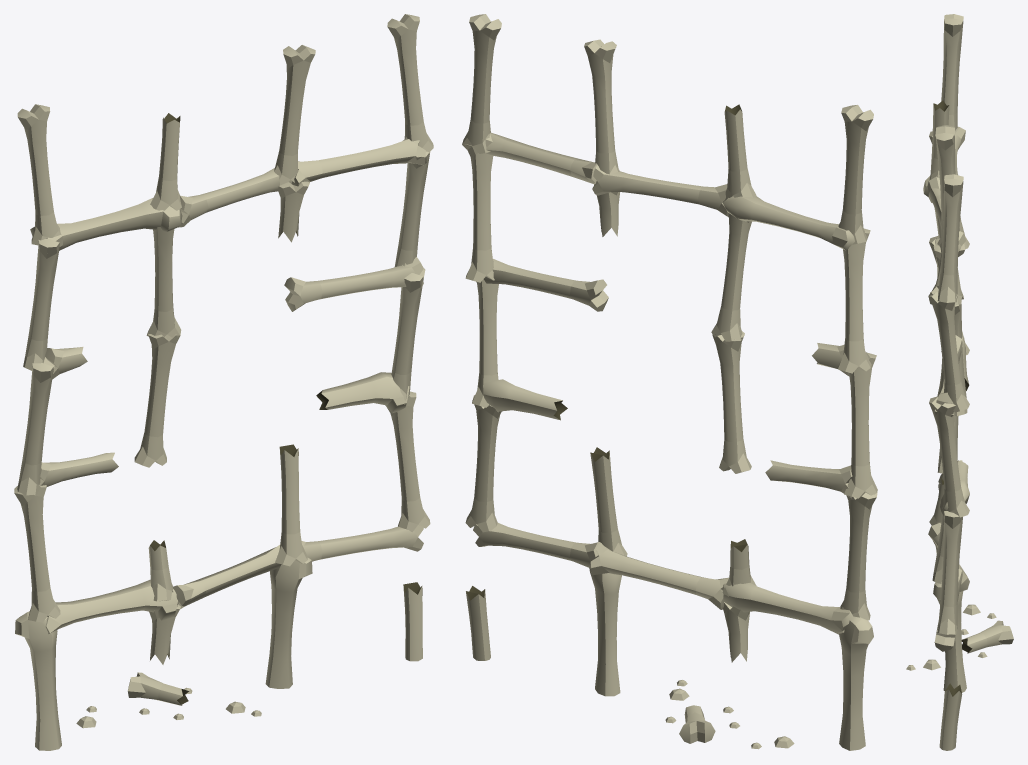
File: Huesos_S.fbx
The picture shows the model from 3 angles, left to right: view 1: azimuth 30°, elevation 25°; view 2: azimuth 150°, elevation 25°; view 3: azimuth 270°, elevation 25°; orthographic projection. The views are drawn at different scales.
Parts seen in each view (by area): view 1: Huesos_S; view 2: Huesos_S; view 3: Huesos_S.
Part boxes in pixels (<box>): Huesos_S: <box>14,14,433,750</box>; Huesos_S: <box>462,14,877,750</box>; Huesos_S: <box>906,14,1013,750</box>.
Size of the model in its own units: 194 by 287 by 49.23.
